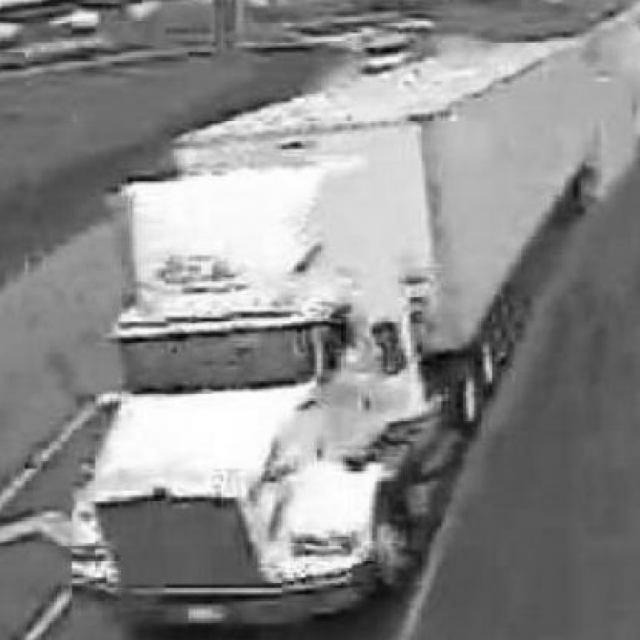Box Truck: (68, 38, 596, 628)
